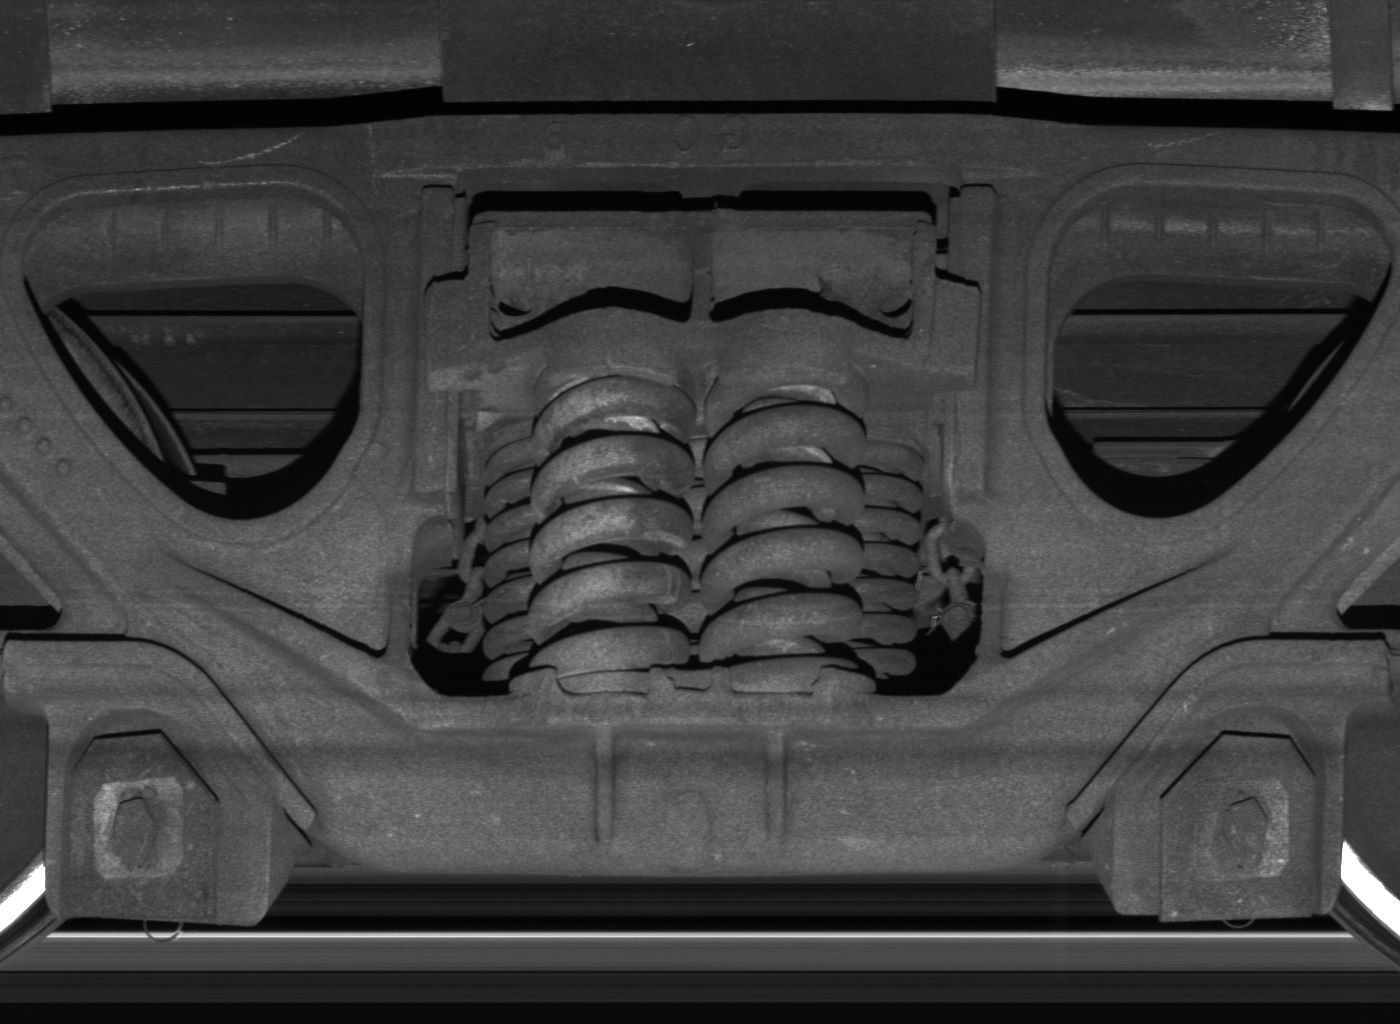normal: (1115, 707, 1347, 926), (47, 709, 273, 925)
